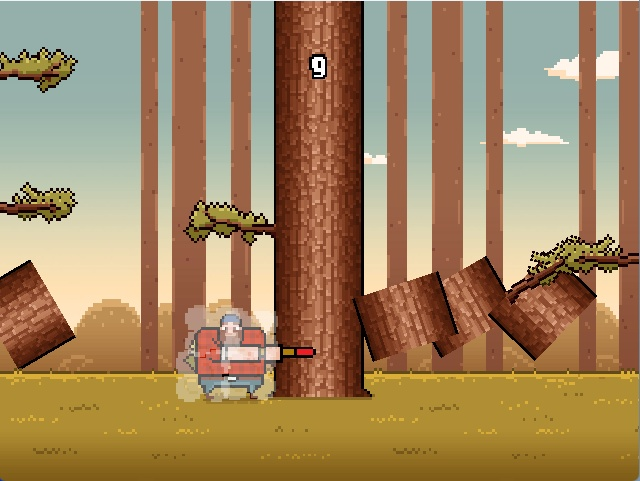left_obs: (176, 182, 281, 254)
timberman: (166, 294, 320, 412)
